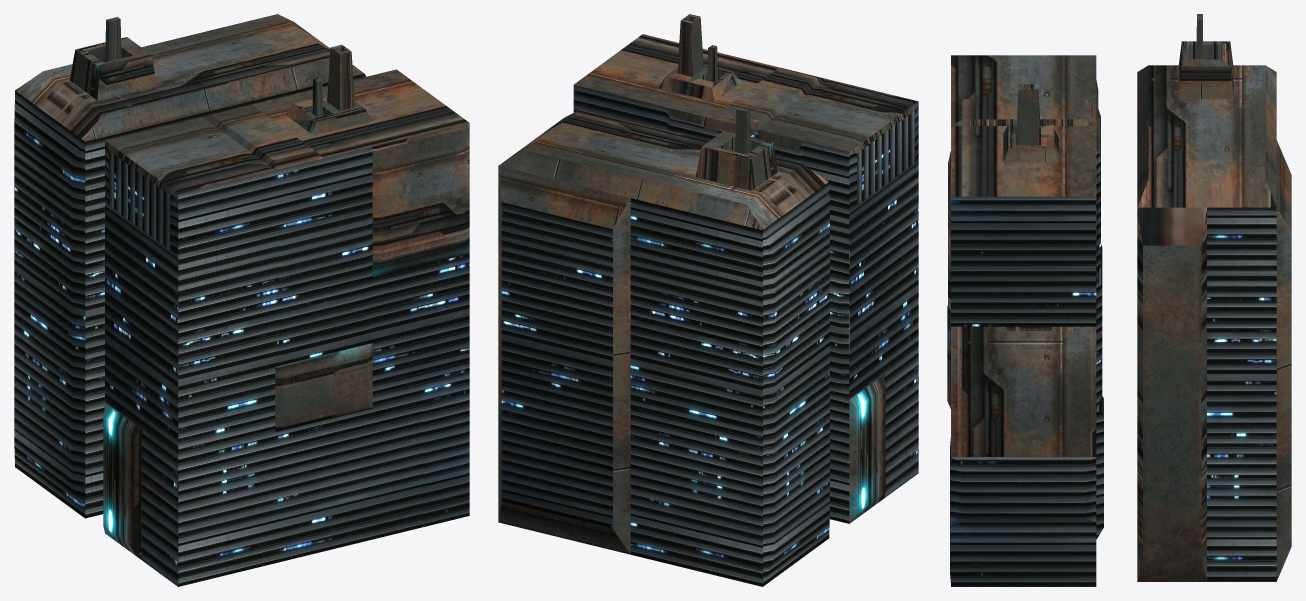
The model's file is 2026-residential-building-1.glb.
3 renders of one model, left to right at view 1: azimuth 30°, elevation 25°; view 2: azimuth 150°, elevation 25°; view 3: azimuth 270°, elevation 25°, orthographic. The views are drawn at different scales.
Visible parts, largest first — view 1: 2026-residential-building-1; view 2: 2026-residential-building-1; view 3: 2026-residential-building-1.
Boxes of the visible parts, x1=… form: 2026-residential-building-1: x1=14, y1=14, x2=469, y2=586; 2026-residential-building-1: x1=498, y1=14, x2=918, y2=586; 2026-residential-building-1: x1=947, y1=14, x2=1291, y2=586.
Size of the model in its own units: 62.12 by 91.24 by 61.66.
Materials: 1 (1 with a texture image).
